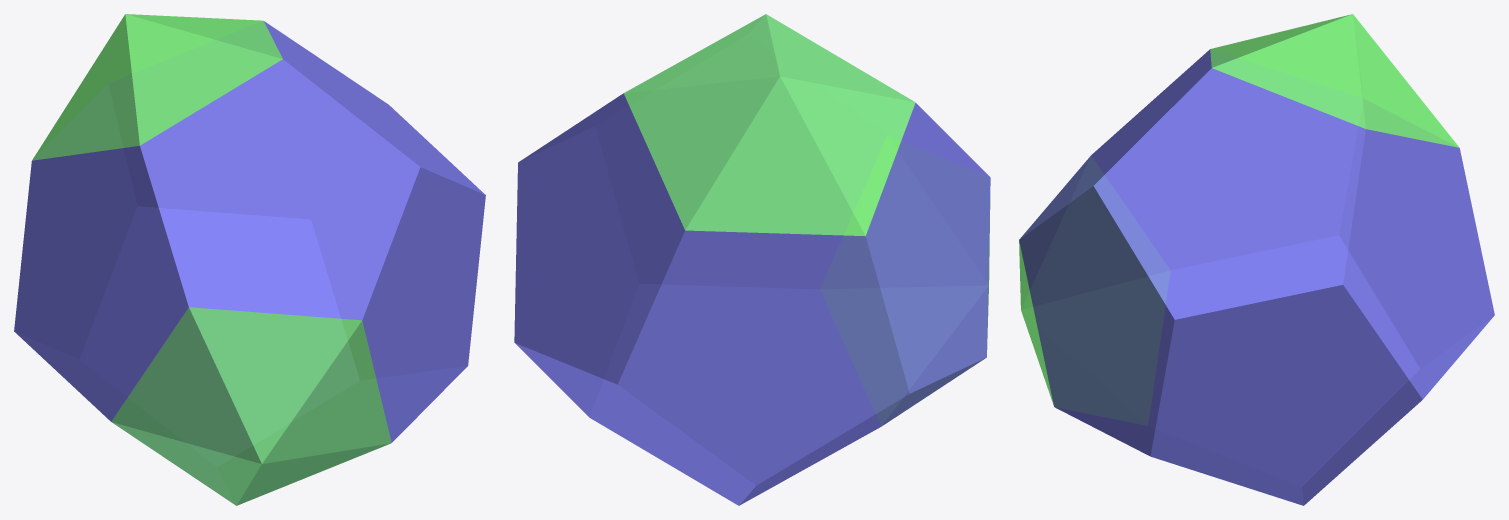
File: j60_metabiaugmented_dodecahedron.obj
The picture shows the model from 3 angles, left to right: view 1: azimuth 30°, elevation 25°; view 2: azimuth 150°, elevation 25°; view 3: azimuth 270°, elevation 25°; orthographic projection. The views are drawn at different scales.
Bounding box in the file's own units: 1.8 × 1.99 × 1.95.
